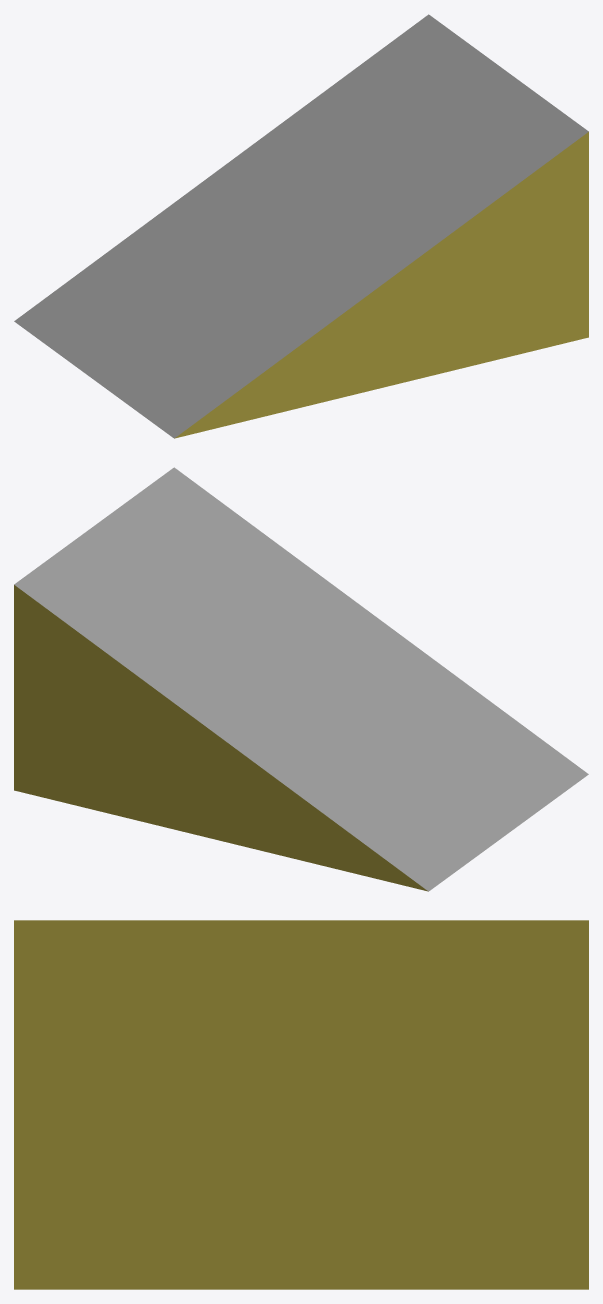
Rendered from rampa.FBX.
3 views of the same model, one above another, from view 1: azimuth 30°, elevation 25°; view 2: azimuth 150°, elevation 25°; view 3: azimuth 270°, elevation 25° (orthographic). The views are drawn at different scales.
Parts seen in each view (by area): view 1: rampa; view 2: rampa; view 3: rampa.
Boxes of the visible parts, x1,y1,x2,y2 form: rampa: (14,14,588,438); rampa: (14,467,588,891); rampa: (14,920,588,1289).
Size of the model in its own units: 54.79 by 25.99 by 36.66.
